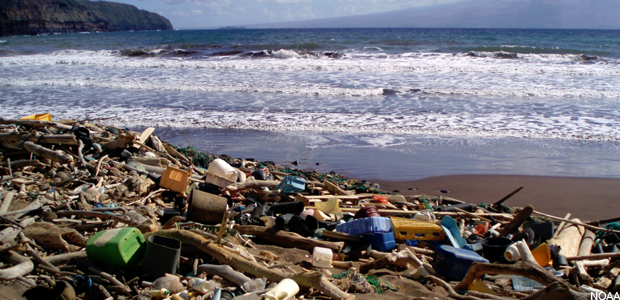litter: (175, 185, 247, 236), (421, 236, 492, 280), (541, 214, 595, 271), (82, 220, 151, 255), (206, 149, 260, 193), (490, 236, 542, 278), (147, 231, 191, 276), (391, 209, 438, 245), (332, 216, 390, 237), (158, 166, 197, 194), (277, 171, 311, 201)
